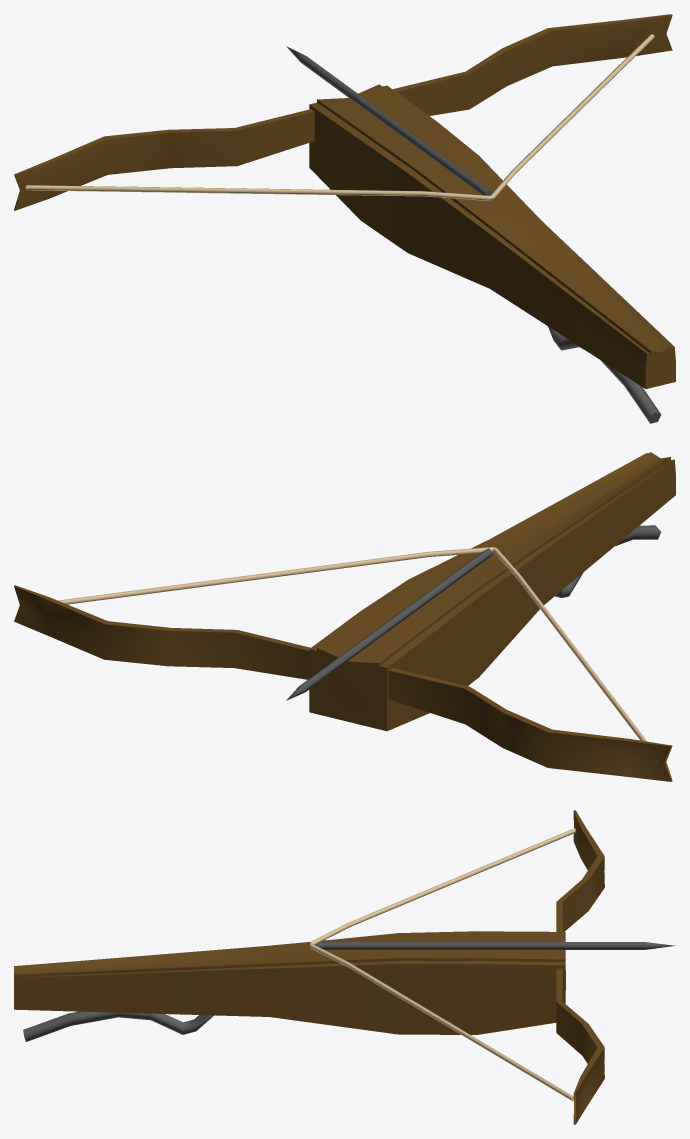
File: Besta.fbx
3 views of the same model, one above another, from view 1: azimuth 30°, elevation 25°; view 2: azimuth 150°, elevation 25°; view 3: azimuth 270°, elevation 25° (orthographic). The views are drawn at different scales.
Parts seen in each view (by area): view 1: Besta1; view 2: Besta1; view 3: Besta1.
Boxes of the visible parts, box(x1,y1,x2,y2) form: Besta1: box(14, 14, 675, 423); Besta1: box(14, 452, 675, 781); Besta1: box(14, 810, 675, 1124).
Size of the model in its own units: 0.9771 by 0.1584 by 0.965.
